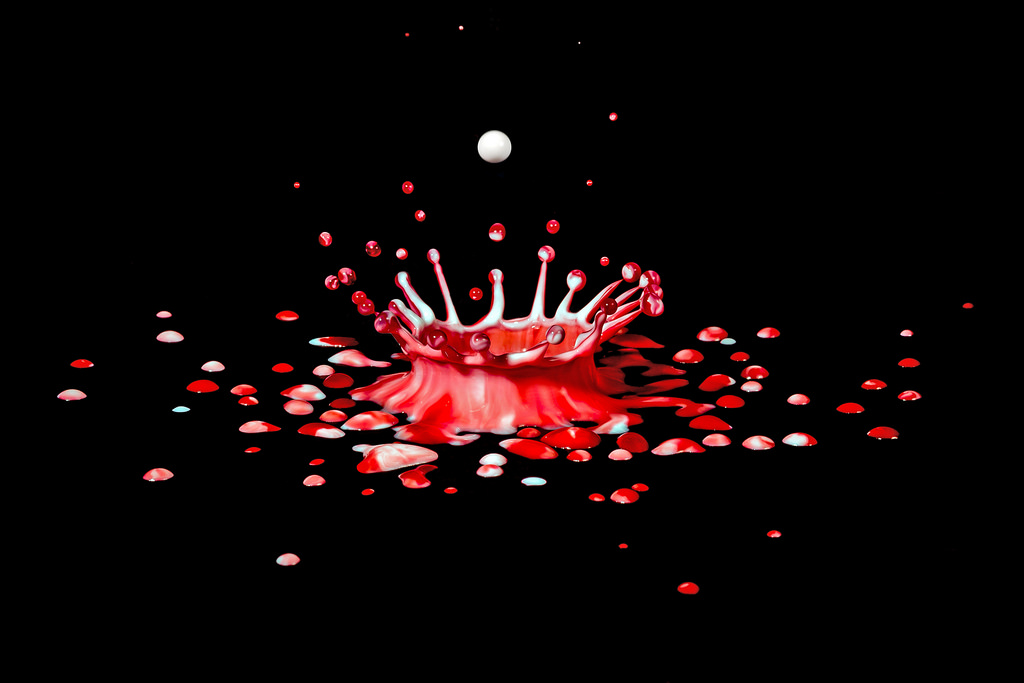glass of milk: (475, 130, 514, 169)
